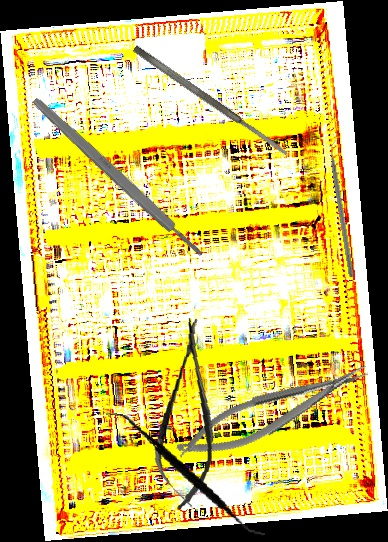Chopper: (326, 135, 362, 279)
Micro Scissor: (149, 316, 226, 512)
Needle Holder: (169, 355, 377, 470)
Scalpel Handle: (30, 94, 206, 261)
Spatula Surgical: (91, 411, 280, 537), (131, 43, 290, 159)
